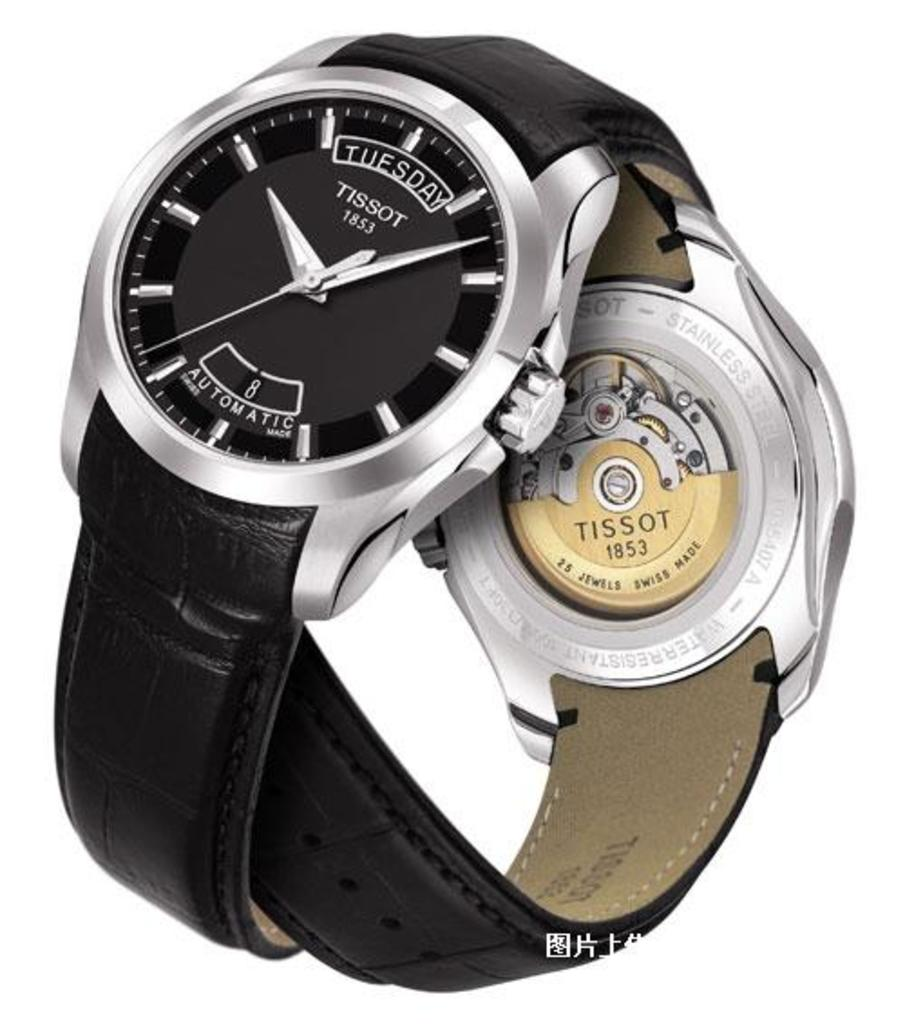watch: (54, 34, 714, 957)
